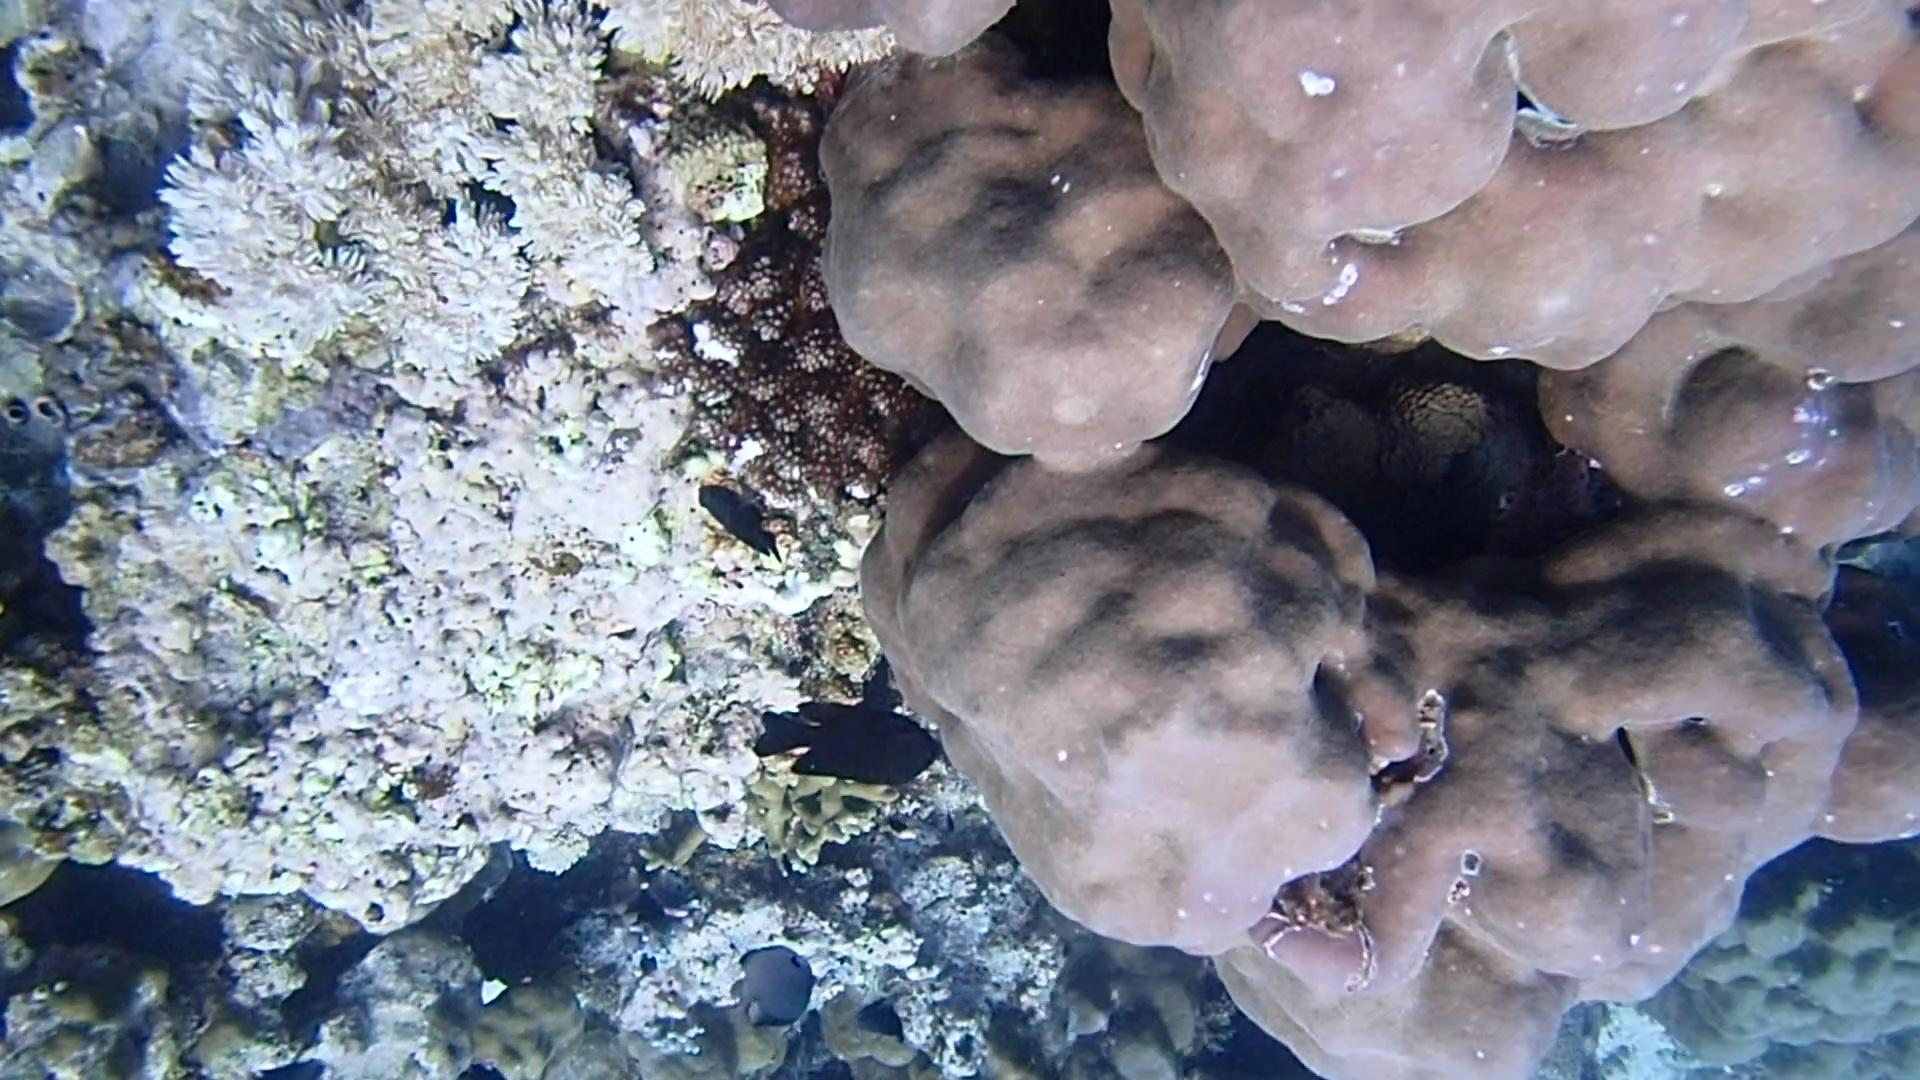Dark Fish: (745, 694, 953, 790), (690, 481, 785, 566), (615, 889, 696, 938), (852, 998, 906, 1046)
Light Fish - Dark Fin: (727, 939, 822, 1035)
